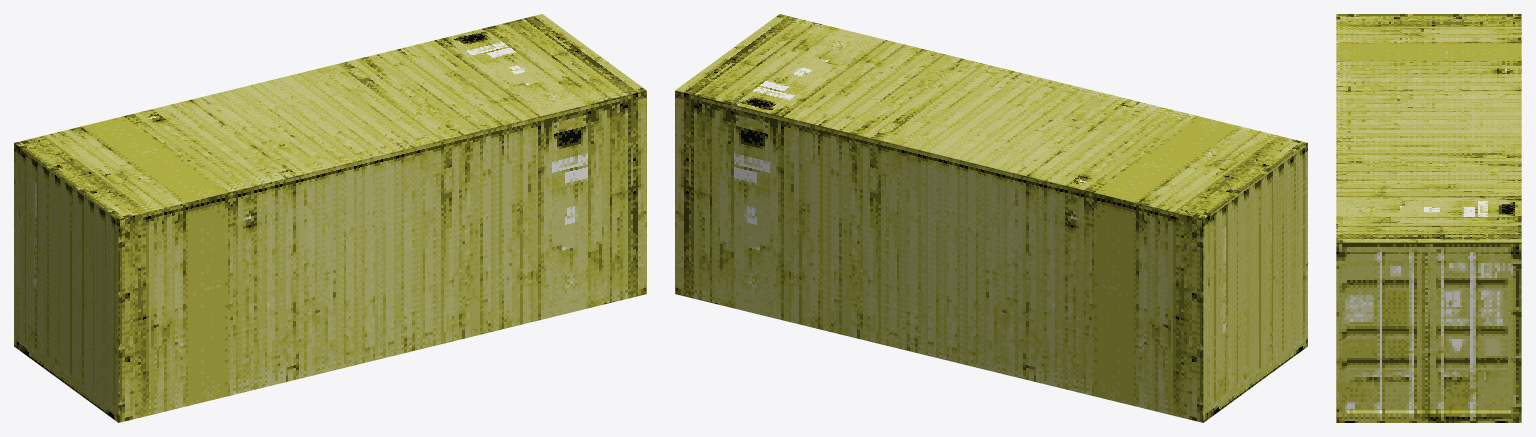
File: Container_Yellow.glb
3 renders of one model, left to right at view 1: azimuth 30°, elevation 25°; view 2: azimuth 150°, elevation 25°; view 3: azimuth 270°, elevation 25°, orthographic. The views are drawn at different scales.
Parts seen in each view (by area): view 1: Container Yellow; view 2: Container Yellow; view 3: Container Yellow.
Boxes of the visible parts, bbox=[...] form: Container Yellow: bbox=[14, 14, 646, 422]; Container Yellow: bbox=[675, 14, 1307, 422]; Container Yellow: bbox=[1336, 14, 1521, 422].
Size of the model in its own units: 2.74 by 1.01 by 0.9388.
1 material, 1 textured.
